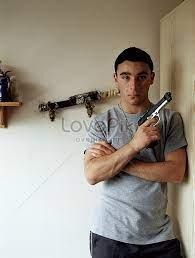criminal: (84, 47, 188, 258)
weapon: (136, 90, 173, 148)
